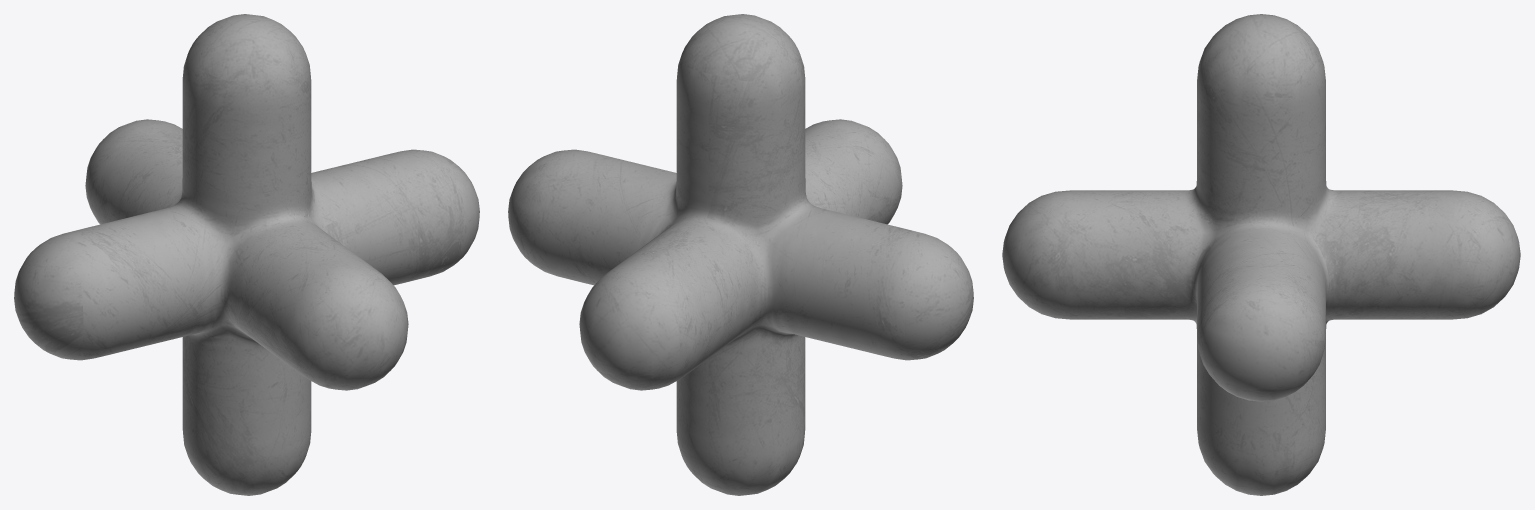
Rendered from Array.glb.
3 views of the same model, side by side, from view 1: azimuth 30°, elevation 25°; view 2: azimuth 150°, elevation 25°; view 3: azimuth 270°, elevation 25° (orthographic).
Visible parts, largest first — view 1: Array; view 2: Array; view 3: Array.
Boxes of the visible parts, x1,y1,x2,y2 form: Array: (14,14,479,495); Array: (508,14,973,495); Array: (1002,14,1520,495).
Bounding box in the file's own units: 2.06 × 2.06 × 2.06.
1 material, 1 textured.
